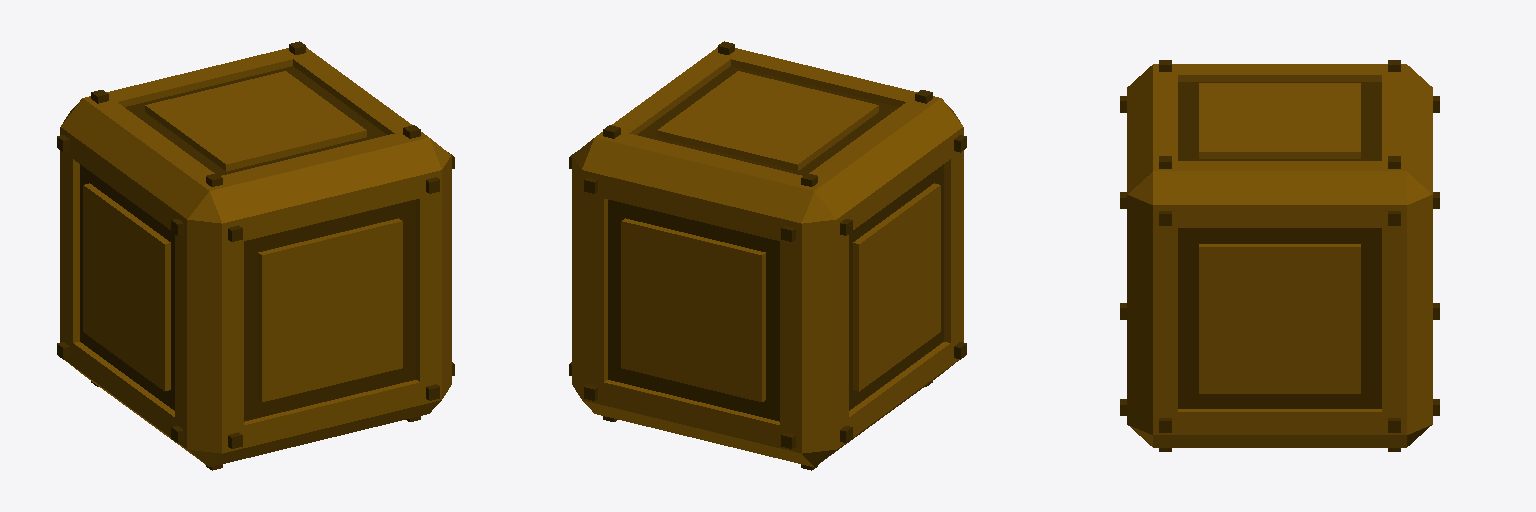
The model's file is YellowBox_Cube.obj.
3 renders of one model, left to right at view 1: azimuth 30°, elevation 25°; view 2: azimuth 150°, elevation 25°; view 3: azimuth 270°, elevation 25°, orthographic.
Visible parts, largest first — view 1: YellowBox_Cube.008; view 2: YellowBox_Cube.008; view 3: YellowBox_Cube.008.
Boxes of the visible parts, <box> form: YellowBox_Cube.008: <box>57,41,454,470</box>; YellowBox_Cube.008: <box>569,41,966,470</box>; YellowBox_Cube.008: <box>1120,60,1439,451</box>.
Bounding box in the file's own units: 1.04 × 1.04 × 1.04.